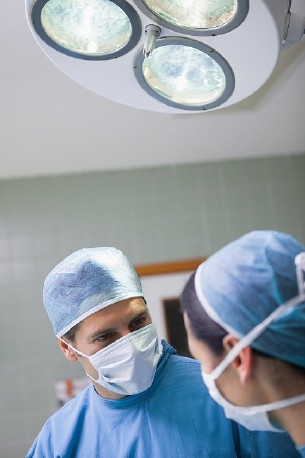Mask: (73, 309, 161, 397)
